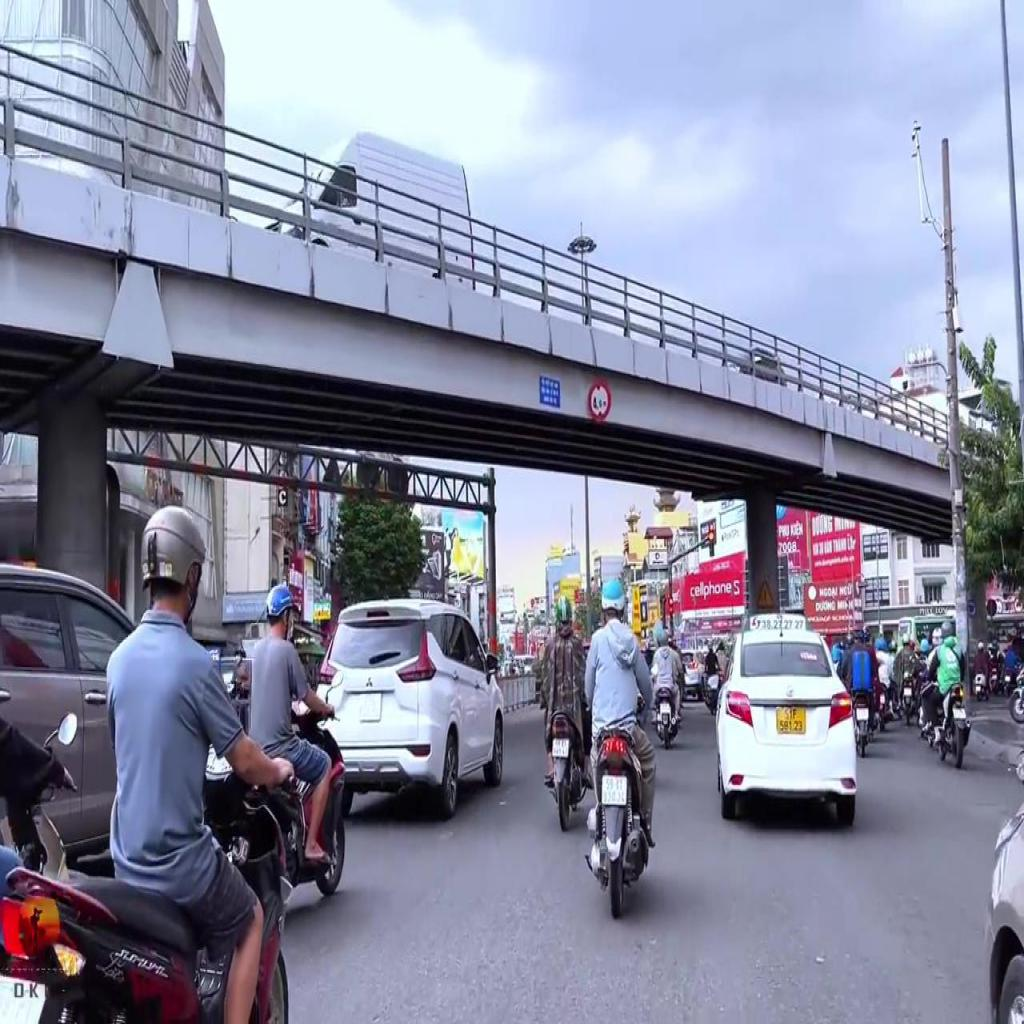han_che_chieu_cao: (588, 377, 613, 424)
